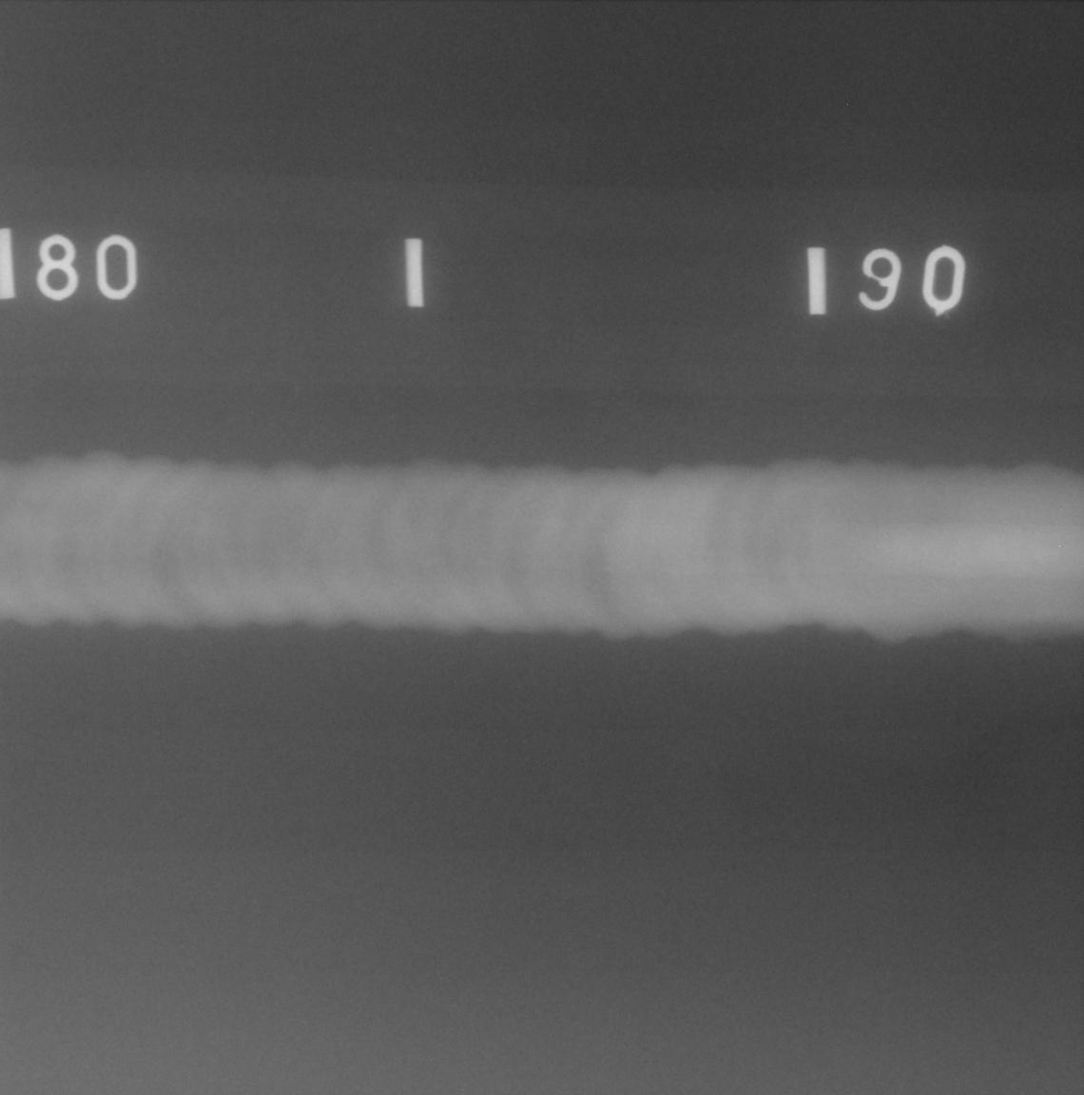Inclusion: (213, 499, 218, 504)
Pore/Porosity: (218, 507, 222, 511)
